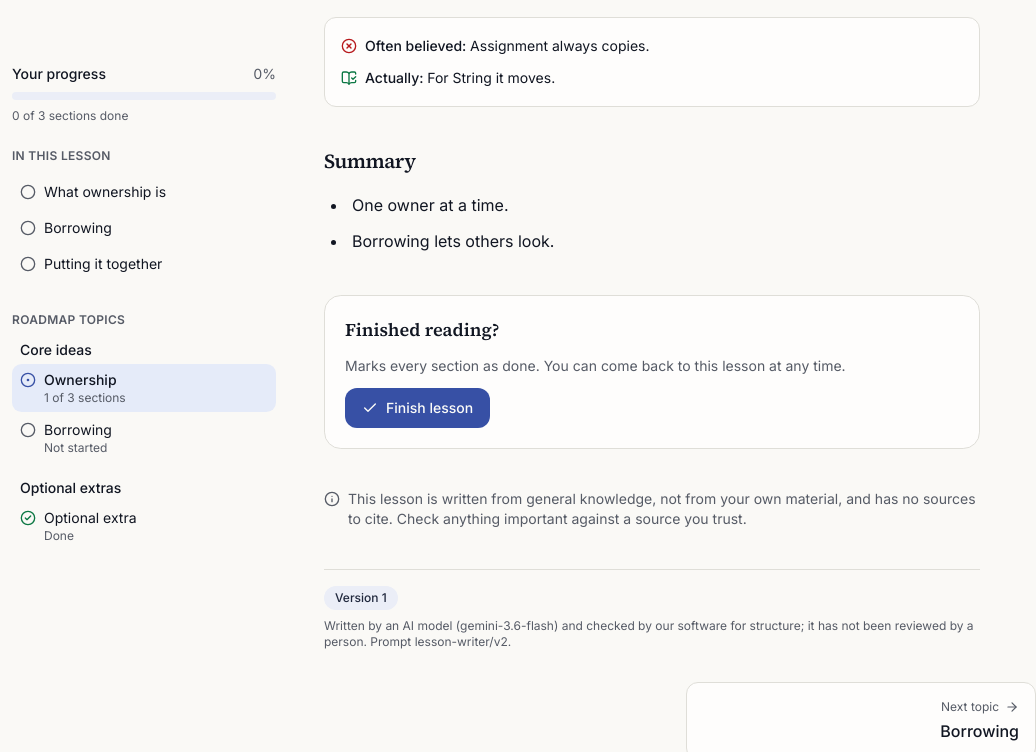
tracking progress › finishes the lesson: every section done, saved at once, and the next topic offered
The width and height of the screenshot is (1036, 752).
(page scrolled)
Click the button "Finish lesson". click: (418,408)
box: [345,388,490,428]
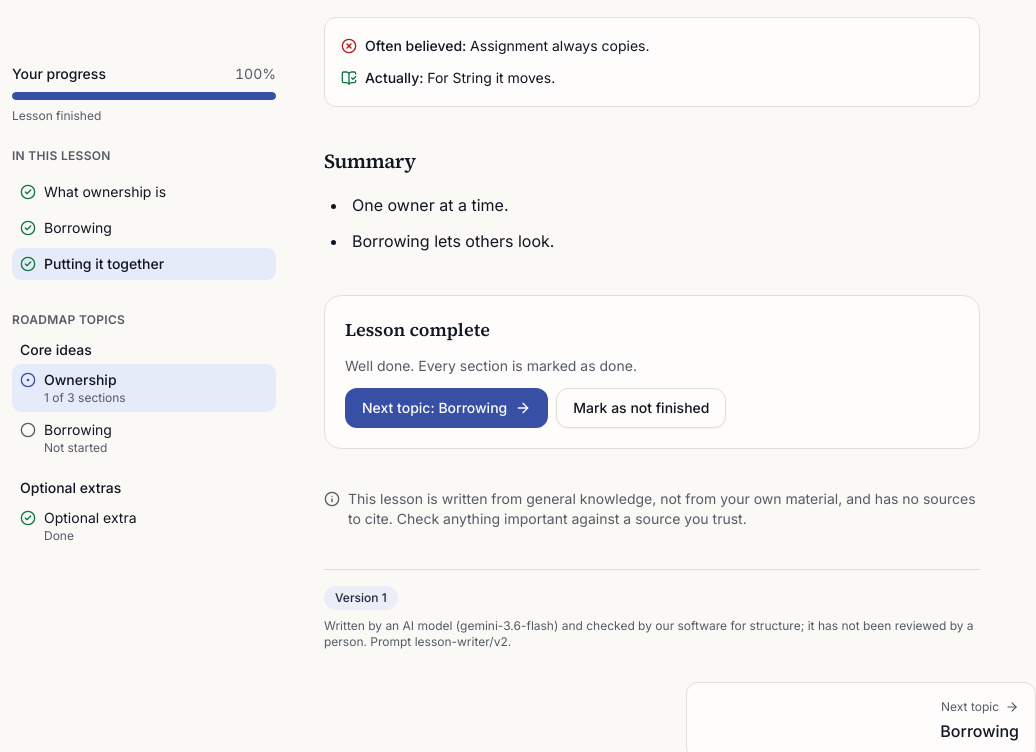
Result: the heading "Lesson complete" is shown at [345,317,490,342]
Result: the text "Lesson finished" is shown at [12,108,101,123]
